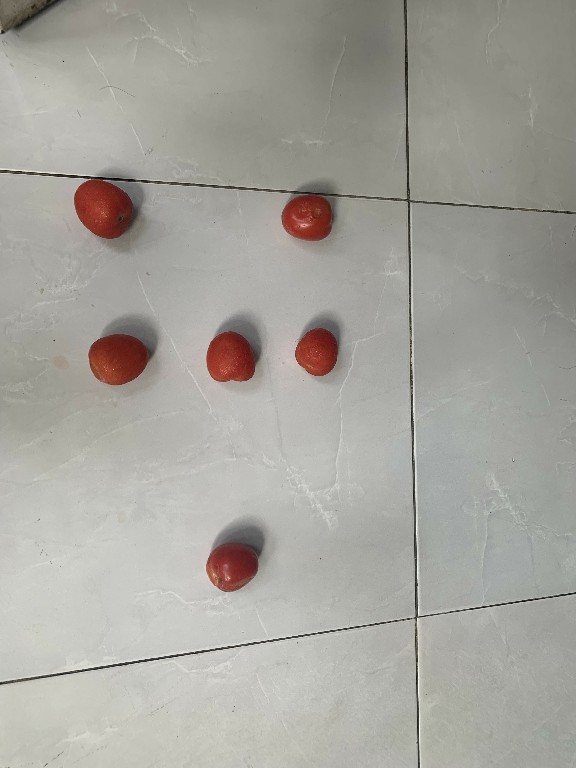NG: (278, 185, 339, 245)
OK: (71, 174, 136, 246), (84, 330, 148, 385), (201, 540, 265, 595), (200, 329, 259, 383), (294, 325, 341, 379)
